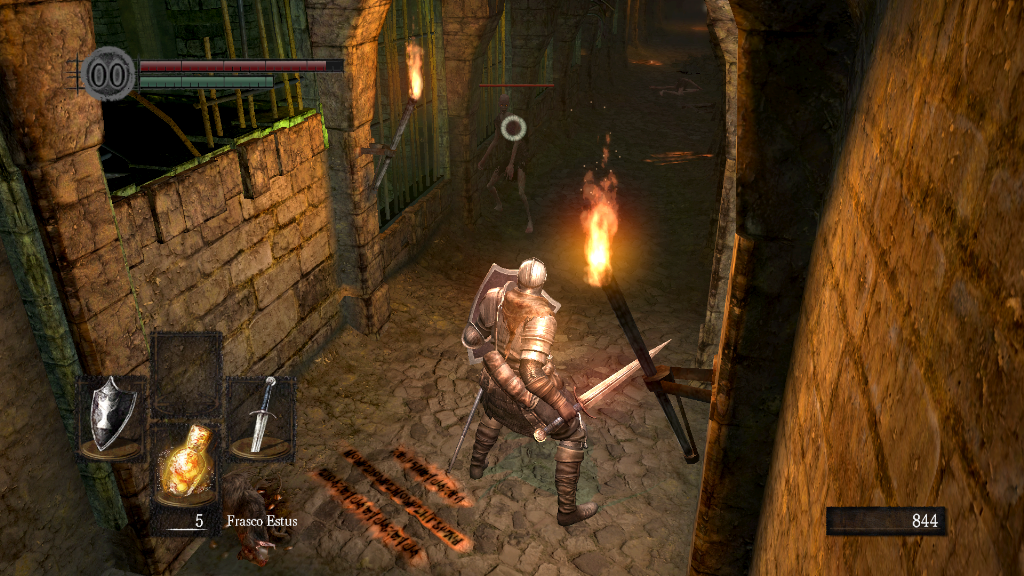health: (138, 58, 343, 71)
hollow: (477, 93, 534, 238)
humanity: (80, 45, 136, 102)
player: (444, 257, 672, 528)
souls: (825, 506, 945, 536)
stamina: (138, 74, 274, 88)
